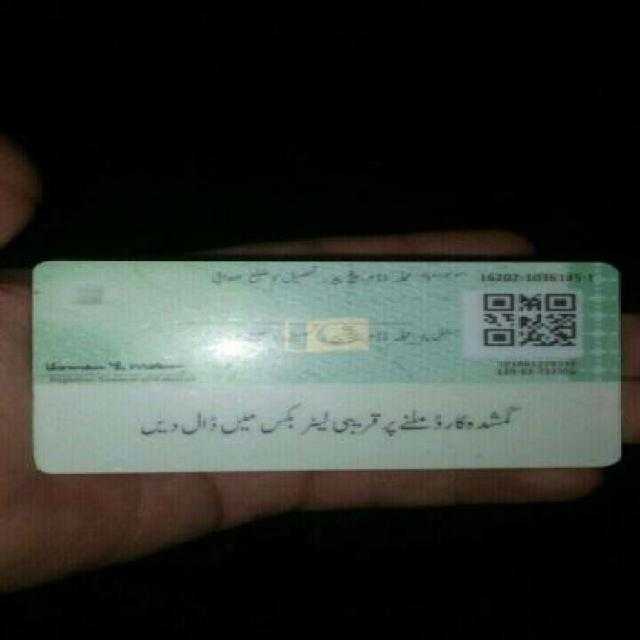Back: (26, 252, 626, 474)
